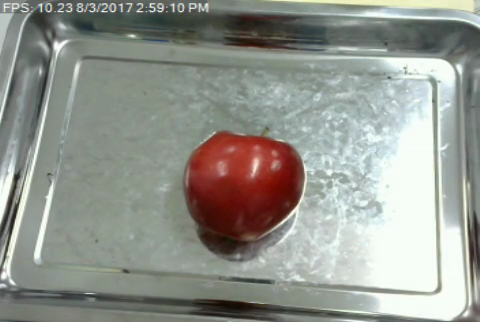Apple: (175, 128, 312, 245)
